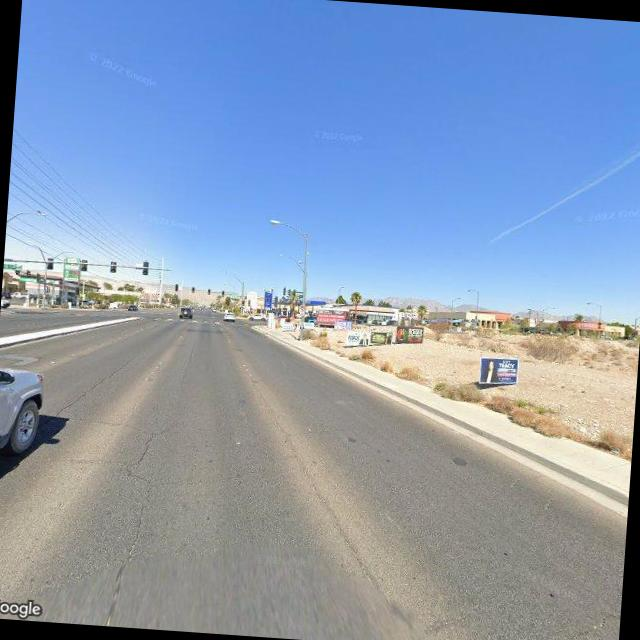pothole: (94, 418, 162, 628), (49, 354, 130, 420)
